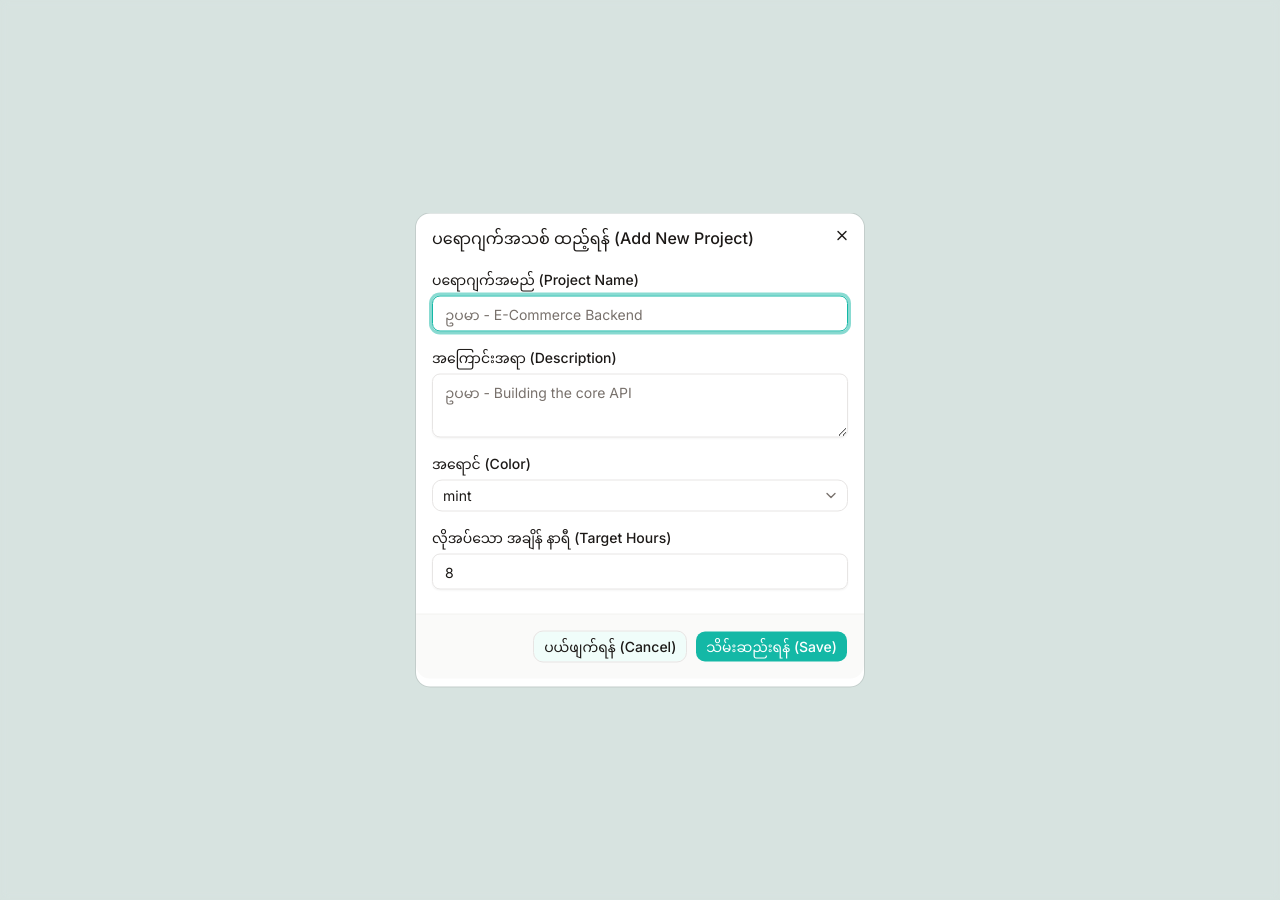
Scenario: ProjectForm › shows validation error for empty name
Click the button "သိမ်းဆည်းရန် (Save)" at coordinates (772, 646), box x1=695 y1=630 x2=848 y2=662
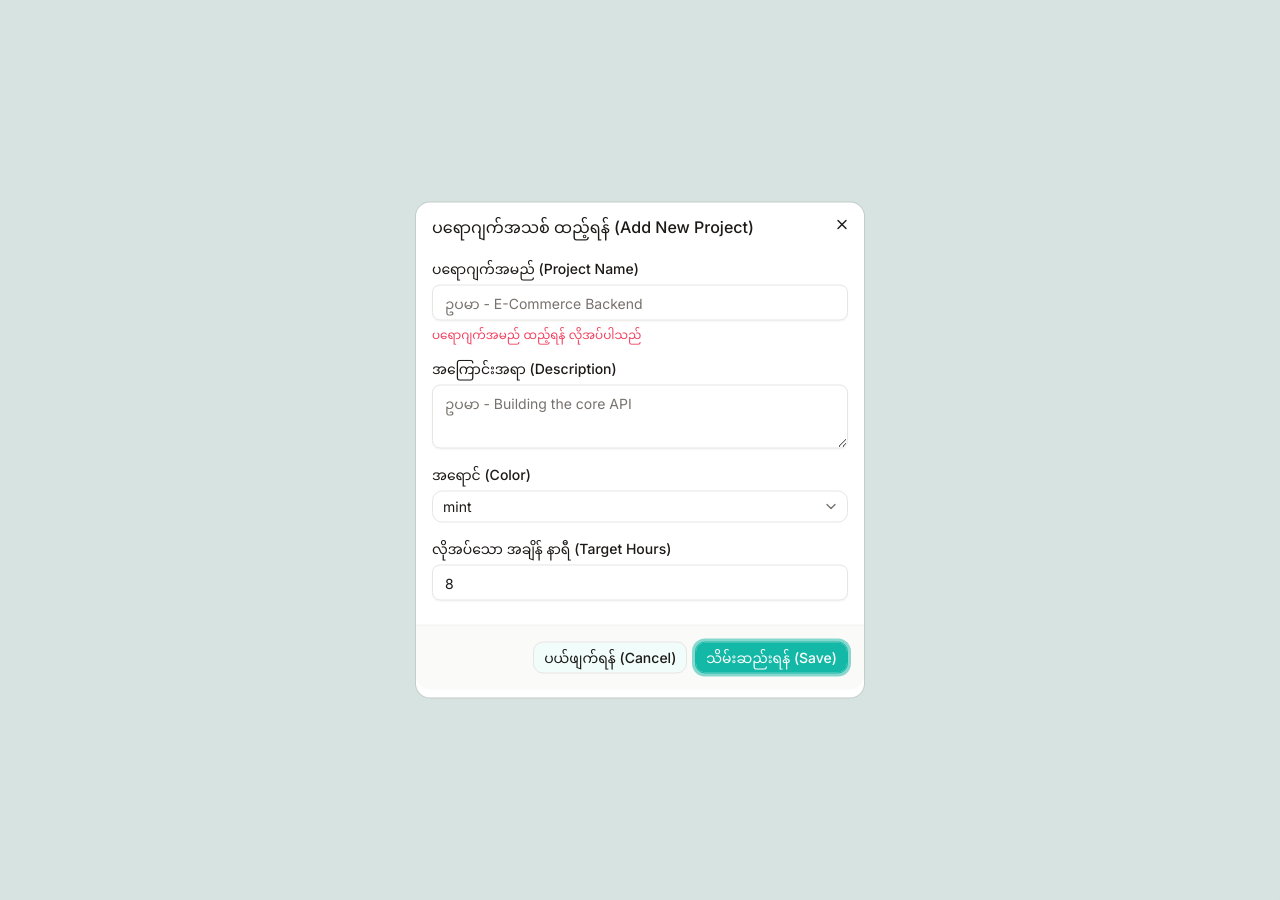
Result: the text "ပရောဂျက်အမည် ထည့်ရန် လိုအပ်ပါသည်" is shown at x1=432 y1=326 x2=641 y2=342
